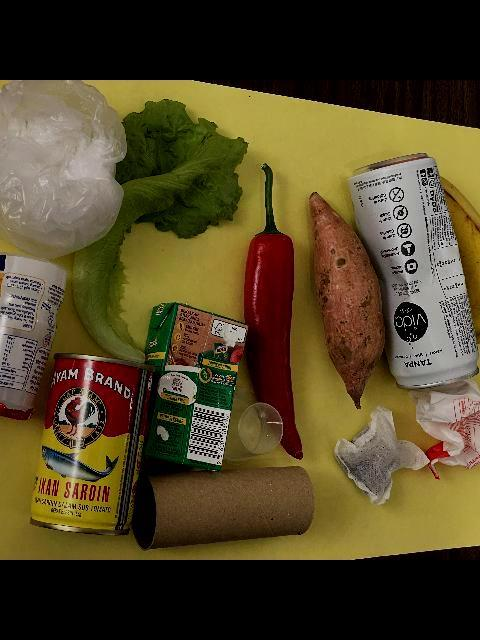banana: (431, 174, 480, 346)
chilli: (242, 164, 302, 460)
drinkcan: (344, 152, 480, 392)
drinkpack: (130, 301, 250, 474)
foodcan: (26, 353, 156, 537)
lettuce: (69, 98, 249, 366)
paperbag: (405, 377, 480, 480)
plasticbag: (0, 80, 128, 260)
plasticbottle: (0, 250, 68, 421)
plasticcontainer: (220, 386, 284, 466)
sweetpotato: (307, 192, 385, 410)
teabag: (332, 404, 430, 506)
tissueroll: (130, 466, 316, 550)
